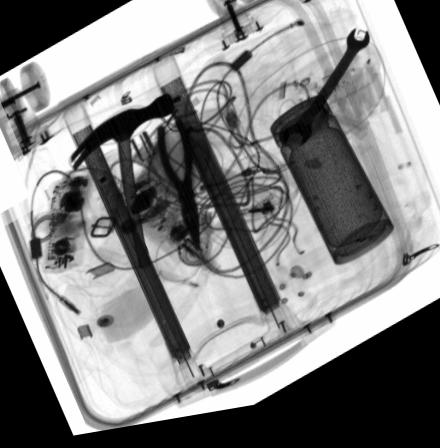Hammer: (68, 100, 171, 278)
Pliers: (154, 124, 194, 263)
Wrench: (279, 41, 370, 160)
